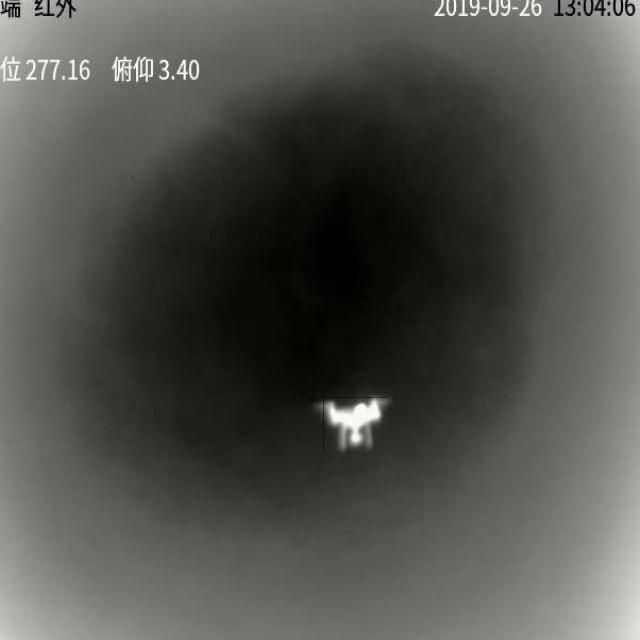drone: (323, 397, 388, 452)
